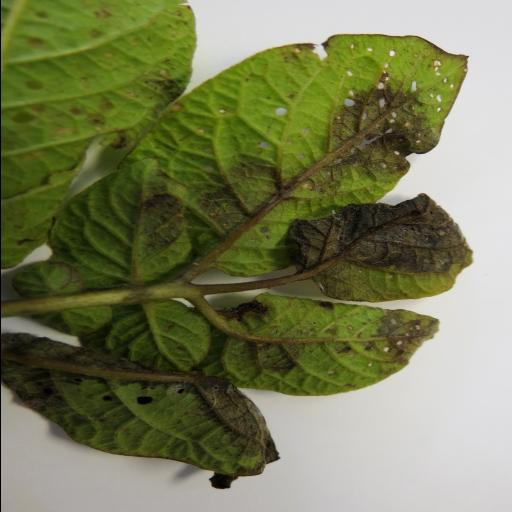disease_tomato: (34, 32, 476, 302), (0, 338, 279, 494), (192, 290, 446, 396), (280, 196, 476, 304)
